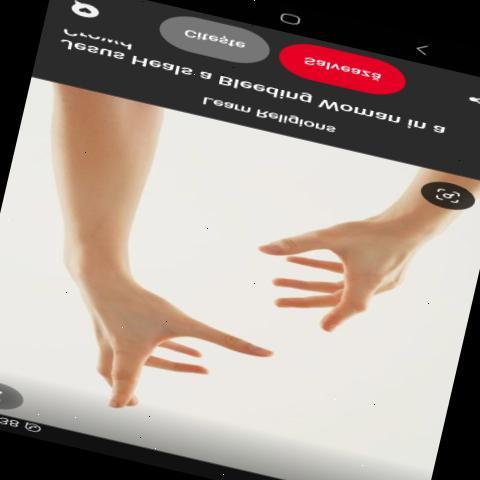Hands: (252, 167, 480, 339), (61, 248, 281, 424)
